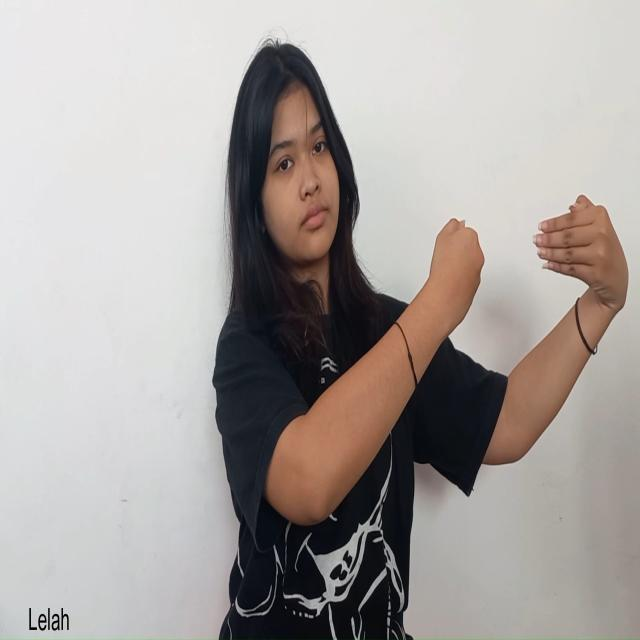Lelah -BISINDO-: (427, 190, 630, 344)
